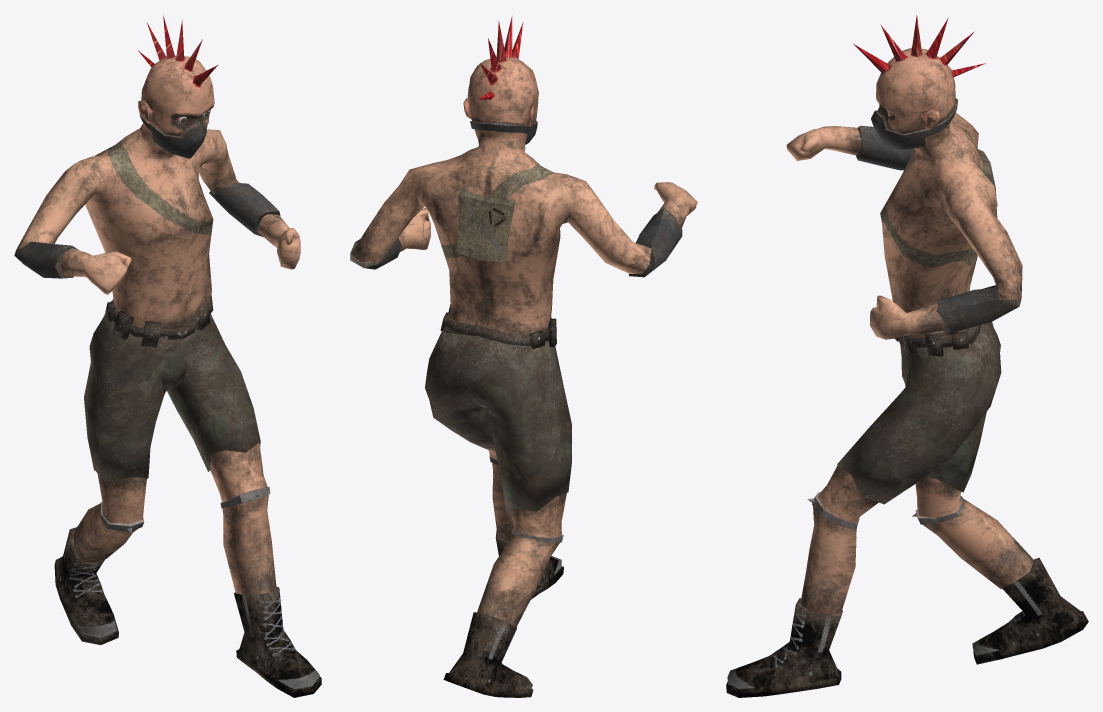
File: Anim_ataque_d1_npc2.0026.obj
3 renders of one model, left to right at view 1: azimuth 30°, elevation 25°; view 2: azimuth 150°, elevation 25°; view 3: azimuth 270°, elevation 25°, orthographic. The views are drawn at different scales.
Visible parts, largest first — view 1: polySurface1; view 2: polySurface1; view 3: polySurface1.
Part boxes in pixels (x1=…): polySurface1: x1=14, y1=14, x2=321, y2=697; polySurface1: x1=350, y1=15, x2=697, y2=697; polySurface1: x1=726, y1=15, x2=1088, y2=697.
Size of the model in its own units: 4.42 by 9.82 by 4.8.
